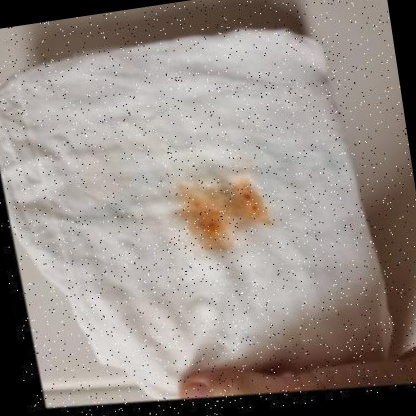kimchi: (174, 166, 275, 262)
